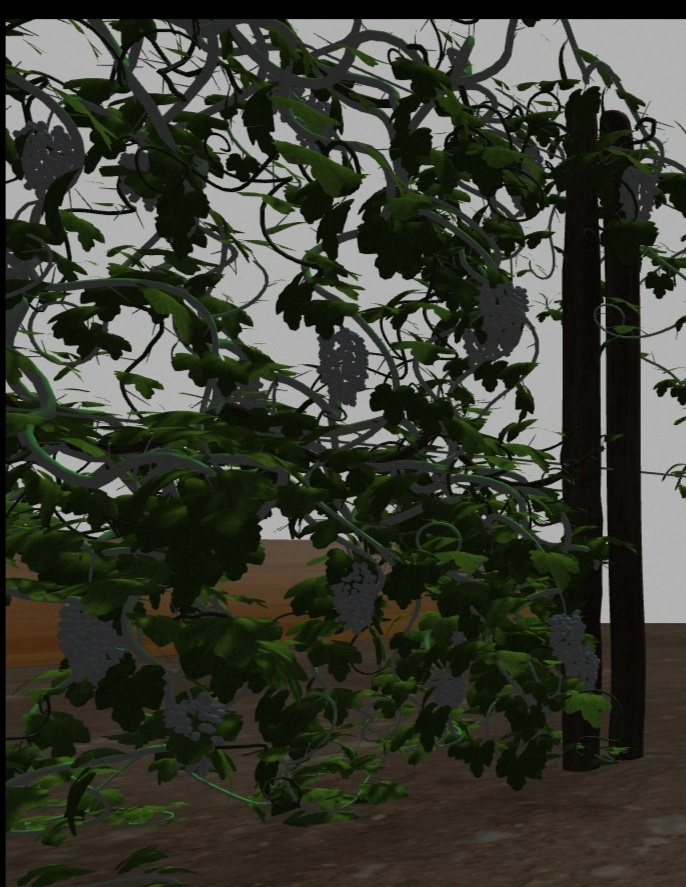grape: (55, 599, 121, 686), (14, 121, 75, 197), (315, 330, 369, 405), (329, 559, 379, 636), (478, 281, 530, 355), (162, 692, 223, 743), (617, 166, 658, 226), (548, 612, 585, 665), (427, 663, 468, 709), (563, 652, 599, 693)
